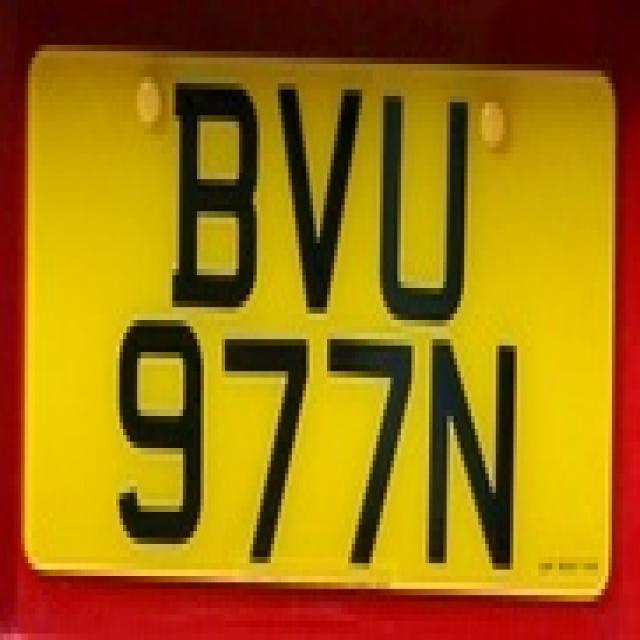LicensePlate: (17, 14, 621, 618)
